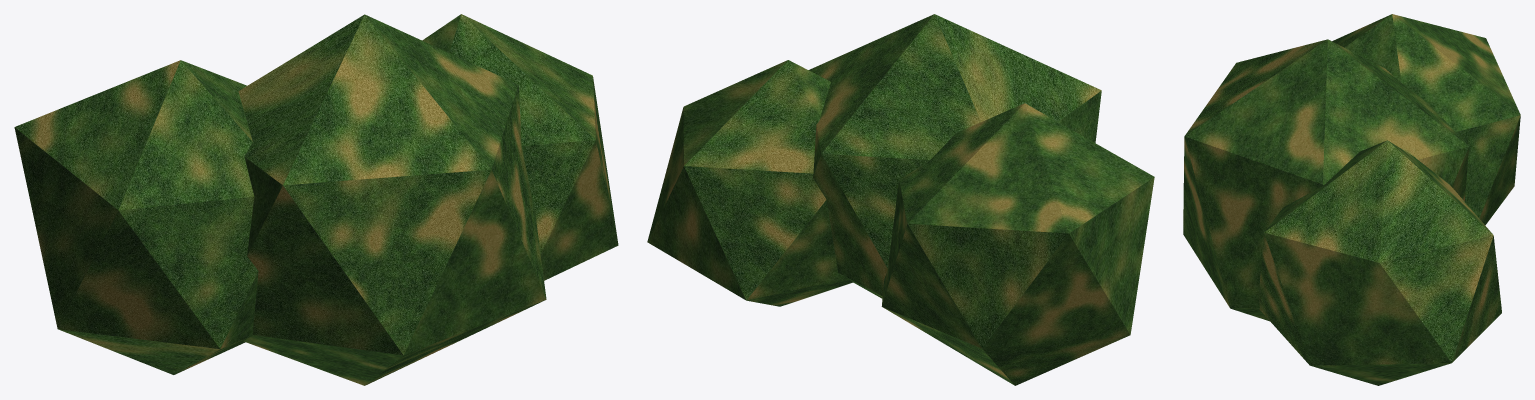
Rendered from bush.glb.
3 views of the same model, side by side, from view 1: azimuth 30°, elevation 25°; view 2: azimuth 150°, elevation 25°; view 3: azimuth 270°, elevation 25° (orthographic). The views are drawn at different scales.
Visible parts, largest first — view 1: Bush; view 2: Bush; view 3: Bush.
Part boxes in pixels (box(x1,y1,x2,y2)): Bush: box(14, 14, 618, 385); Bush: box(647, 14, 1154, 385); Bush: box(1183, 14, 1520, 385).
Bounding box in the file's own units: 1.87 × 1.25 × 1.27.
Materials: 1 (1 with a texture image).
